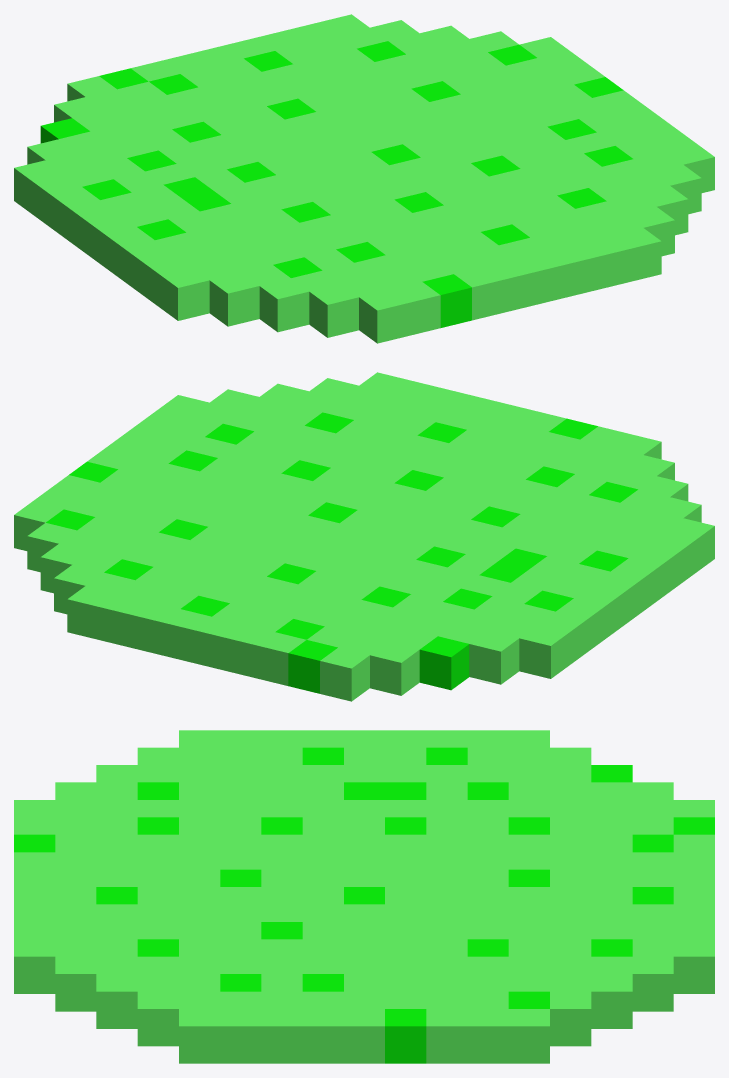
File: character_lettuce.obj
The picture shows the model from 3 angles, top to bottom: view 1: azimuth 30°, elevation 25°; view 2: azimuth 150°, elevation 25°; view 3: azimuth 270°, elevation 25°; orthographic projection. The views are drawn at different scales.
Size of the model in its own units: 17 by 1 by 17.
1 material, 1 textured.
